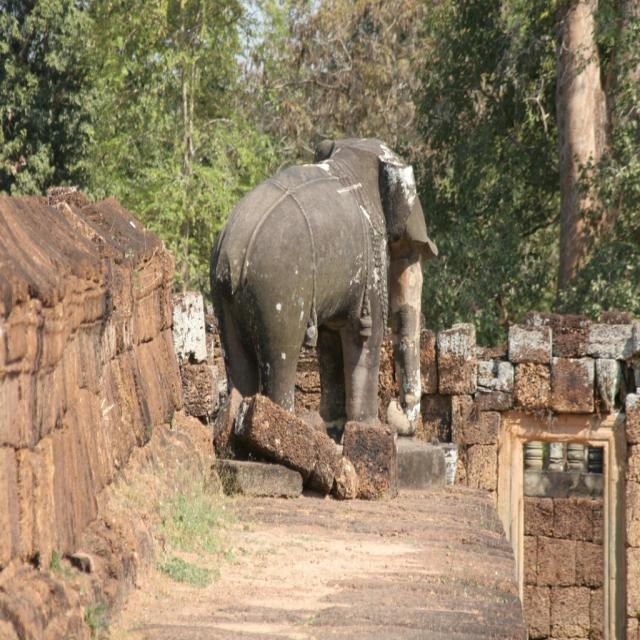Elephant: (207, 140, 438, 466)
